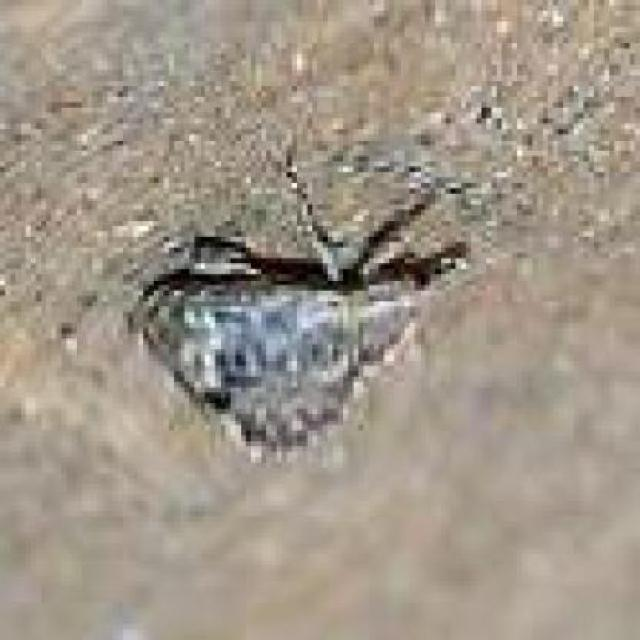rice-bug: (126, 168, 469, 460)
